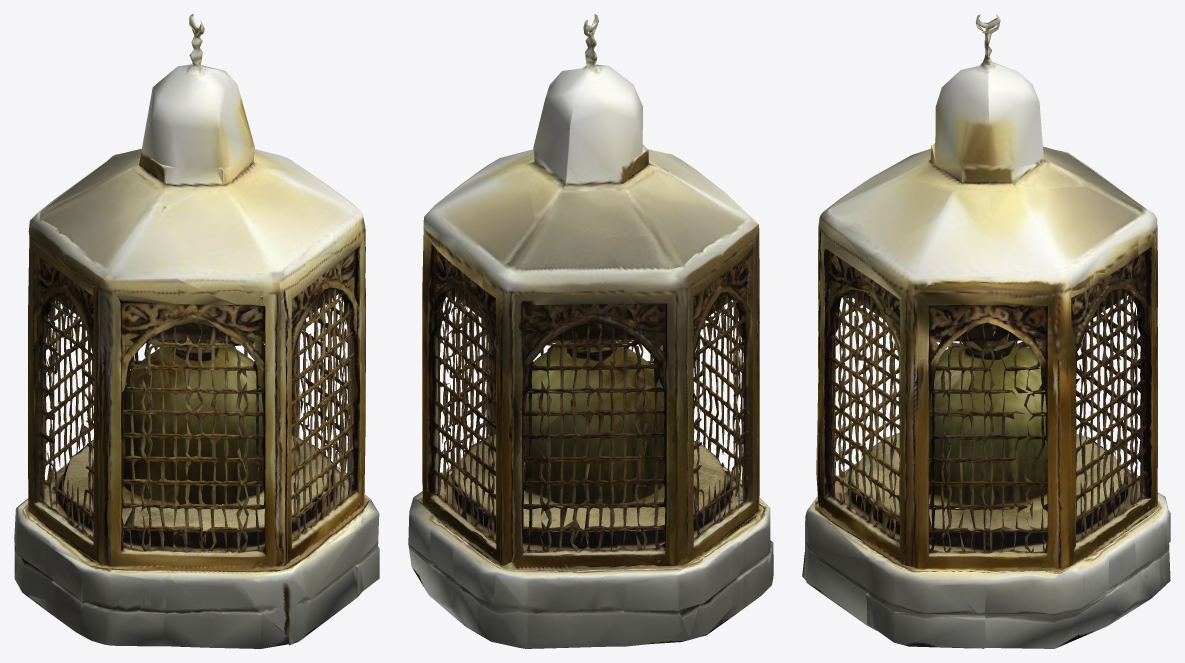
File: maqam.glb
3 renders of one model, left to right at view 1: azimuth 30°, elevation 25°; view 2: azimuth 150°, elevation 25°; view 3: azimuth 270°, elevation 25°, orthographic.
Parts seen in each view (by area): view 1: prop; view 2: prop; view 3: prop.
Boxes of the visible parts, <box> form: prop: <box>14,14,379,648</box>; prop: <box>408,14,773,648</box>; prop: <box>802,14,1170,648</box>.
Size of the model in its own units: 1.64 by 3 by 1.78.
Materials: 1 (1 with a texture image).
